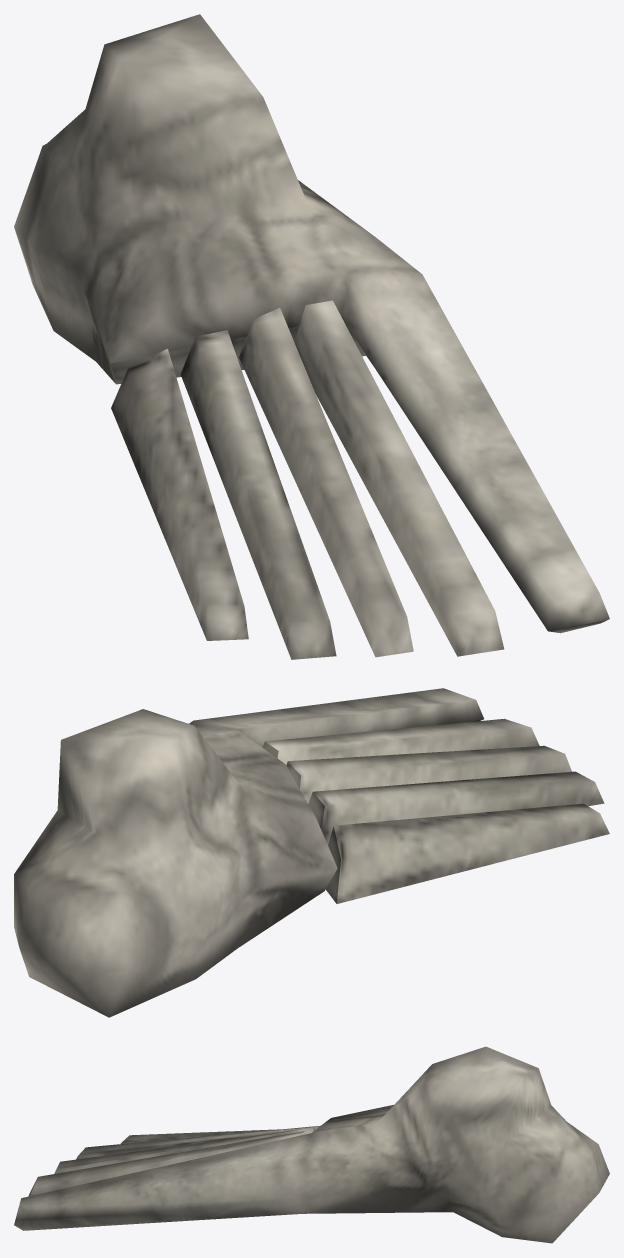
The model's file is pieDer.obj.
3 renders of one model, top to bottom at view 1: azimuth 30°, elevation 25°; view 2: azimuth 150°, elevation 25°; view 3: azimuth 270°, elevation 25°, orthographic. The views are drawn at different scales.
Visible parts, largest first — view 1: pieDer; view 2: pieDer; view 3: pieDer.
Boxes of the visible parts, x1,y1,x2,y2 form: pieDer: [14, 14, 609, 659]; pieDer: [14, 688, 609, 1017]; pieDer: [14, 1046, 609, 1243].
Size of the model in its own units: 0.1334 by 0.0971 by 0.3119.
Materials: 1 (1 with a texture image).
